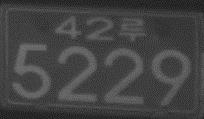2: (57, 44, 98, 103), (104, 46, 145, 105), (85, 15, 115, 42)
4: (53, 14, 81, 39)
5: (11, 42, 51, 99)
9: (150, 47, 191, 106)
루: (118, 17, 146, 41)
